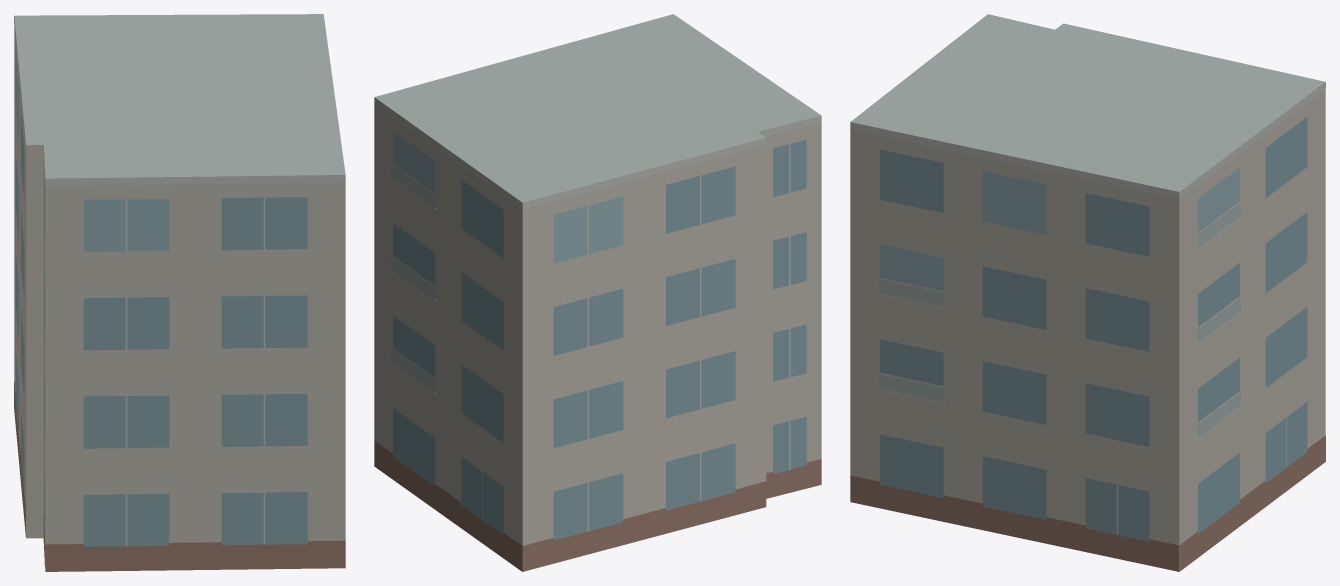
Rendered from survey-upis-32682618.glb.
3 renders of one model, left to right at view 1: azimuth 30°, elevation 25°; view 2: azimuth 150°, elevation 25°; view 3: azimuth 270°, elevation 25°, orthographic. The views are drawn at different scales.
Parts seen in each view (by area): view 1: survey-upis-32682618.tmp; view 2: survey-upis-32682618.tmp; view 3: survey-upis-32682618.tmp.
Part boxes in pixels (left/top/right/bottom): survey-upis-32682618.tmp: left=14, top=14, right=345, bottom=571; survey-upis-32682618.tmp: left=374, top=14, right=821, bottom=571; survey-upis-32682618.tmp: left=850, top=14, right=1325, bottom=571.
Bounding box in the file's own units: 12.81 × 12.75 × 14.47.
